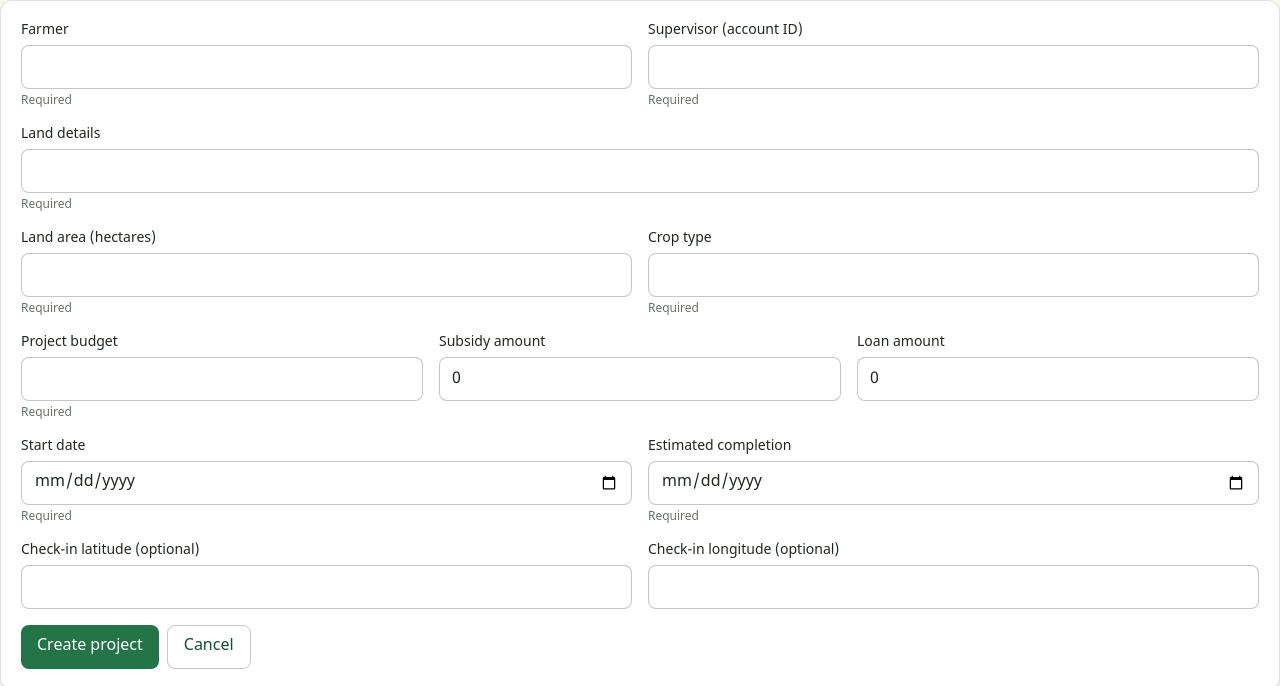
ProjectForm › blocks submission and shows required errors when empty
Click the button "Create project" at (90, 647), box [21,625,159,669]
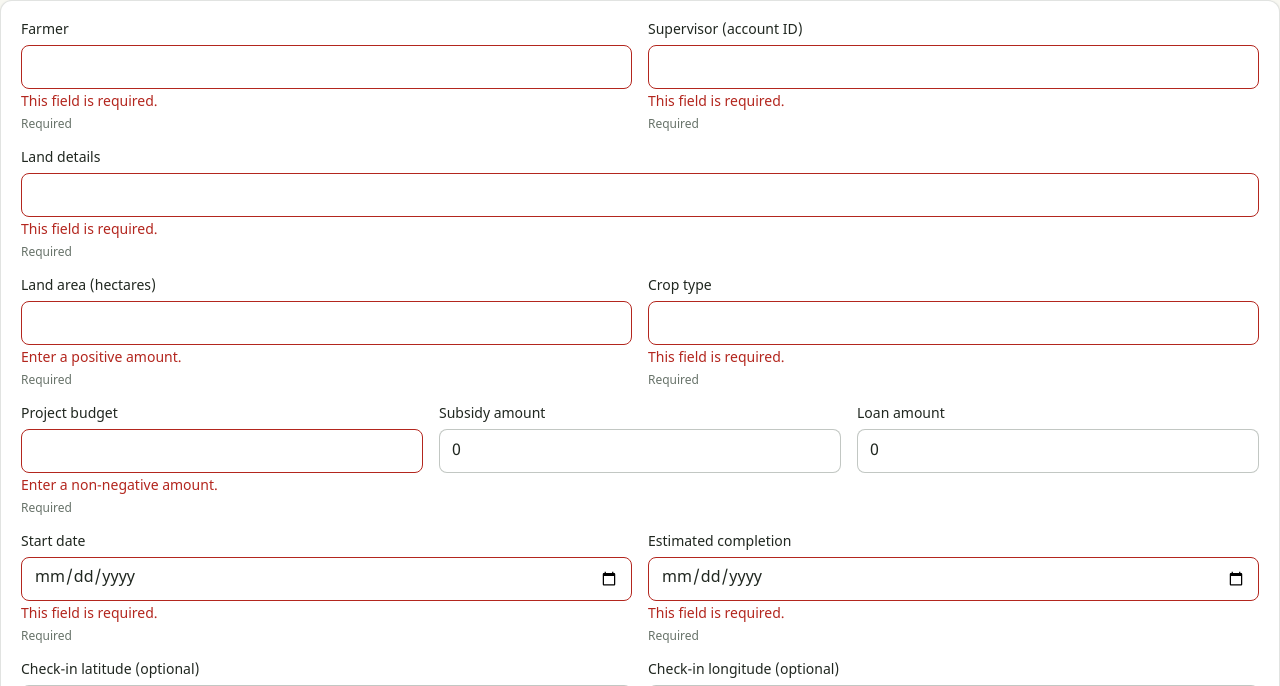
Result: the text "This field is required." below "Farmer" is shown at [21,93,158,112]
